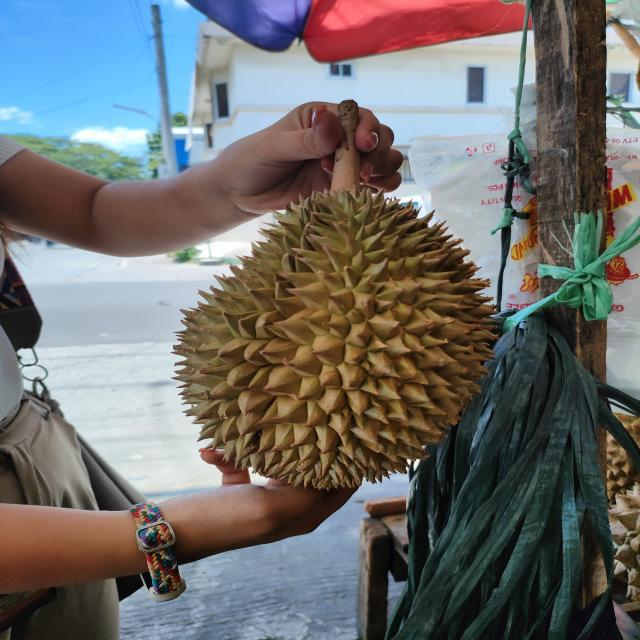mature: (170, 187, 500, 491)
